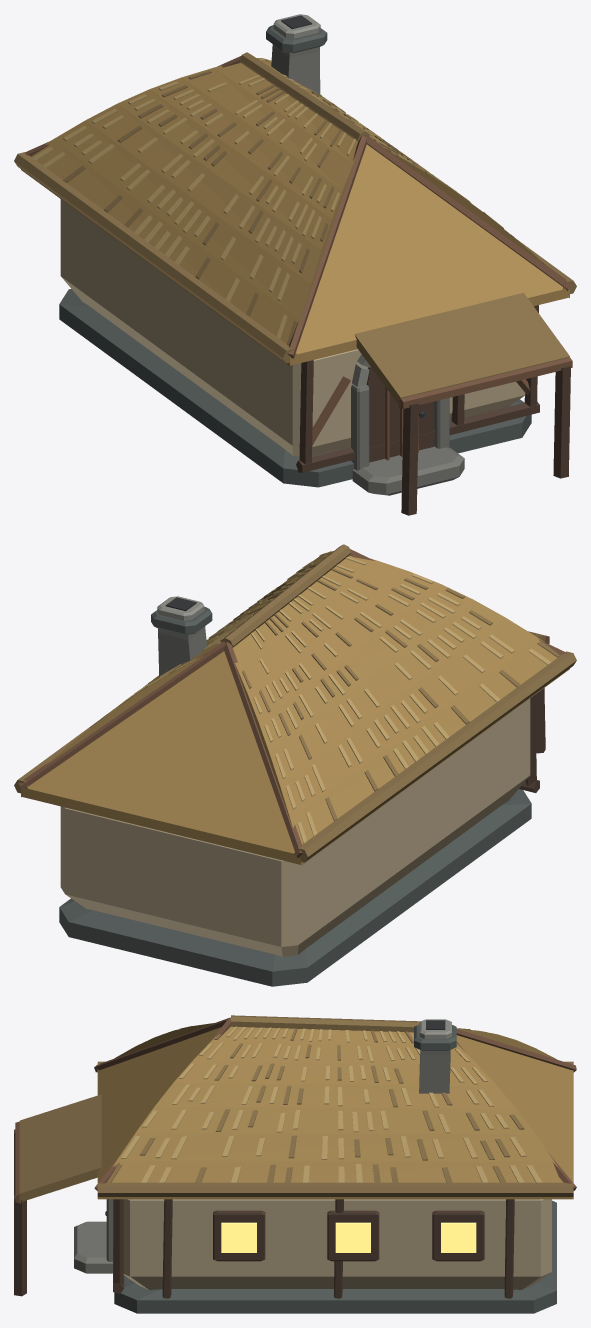
The model's file is BLD_V3_Longhouse_Hipped.glb.
3 renders of one model, top to bottom at view 1: azimuth 30°, elevation 25°; view 2: azimuth 150°, elevation 25°; view 3: azimuth 270°, elevation 25°, orthographic. The views are drawn at different scales.
Parts seen in each view (by area): view 1: BLD_V3_Longhouse_Hipped; view 2: BLD_V3_Longhouse_Hipped; view 3: BLD_V3_Longhouse_Hipped.
Part boxes in pixels (left/top/right/bottom): BLD_V3_Longhouse_Hipped: left=14, top=14, right=576, bottom=515; BLD_V3_Longhouse_Hipped: left=14, top=544, right=576, bottom=986; BLD_V3_Longhouse_Hipped: left=14, top=1015, right=576, bottom=1313.
Bounding box in the file's own units: 3.06 × 2.97 × 5.72.
